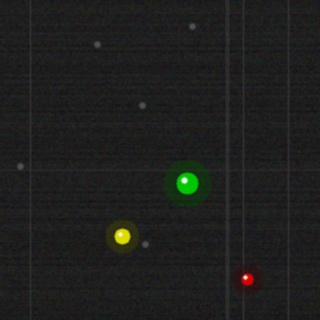green_normal: (174, 170, 200, 196)
red_fault: (239, 271, 255, 287)
yellow_warning: (112, 226, 132, 246)
